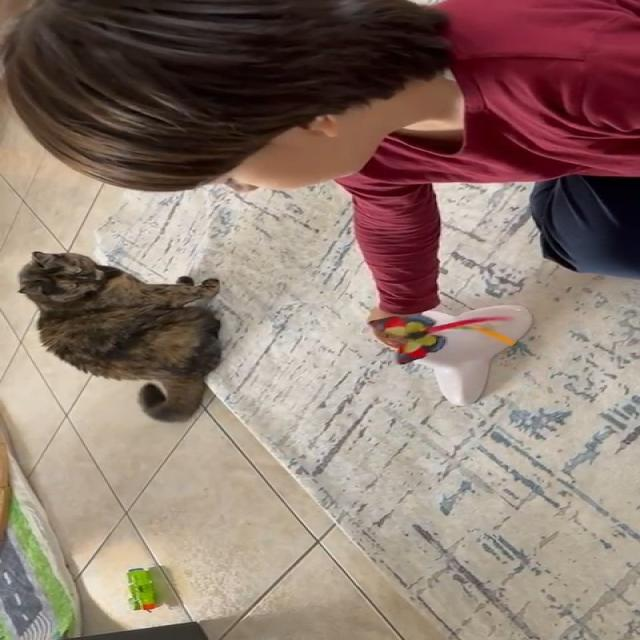authorized: (16, 250, 223, 422)
